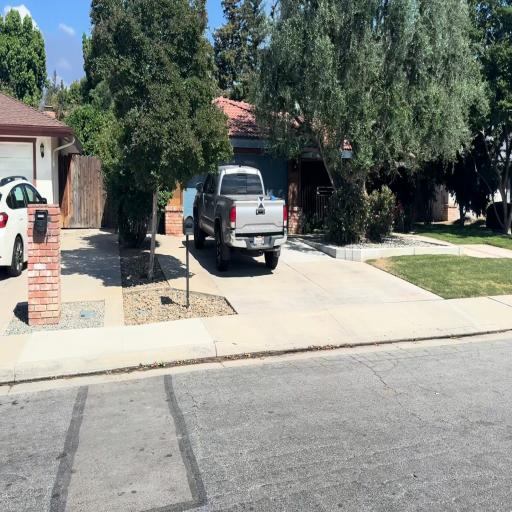target1: (258, 196, 265, 208)
